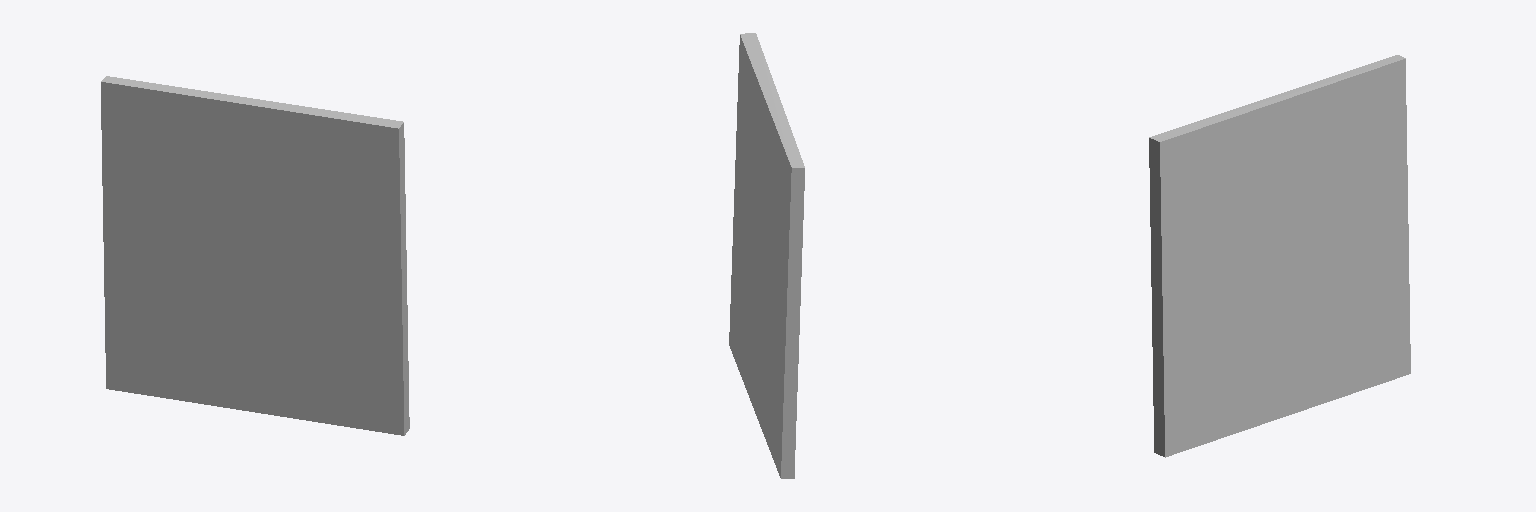
Rendered from gate2.obj.
The picture shows the model from 3 angles: view 1: azimuth 30°, elevation 25°; view 2: azimuth 150°, elevation 25°; view 3: azimuth 270°, elevation 25°; orthographic projection.
Parts seen in each view (by area): view 1: Cylinder.002; view 2: Cylinder.002; view 3: Cylinder.002.
Boxes of the visible parts, x1,y1,x2,y2 form: Cylinder.002: [101, 76, 409, 435]; Cylinder.002: [729, 33, 804, 478]; Cylinder.002: [1149, 55, 1410, 457].
Size of the model in its own units: 3.24 by 5.04 by 3.82.